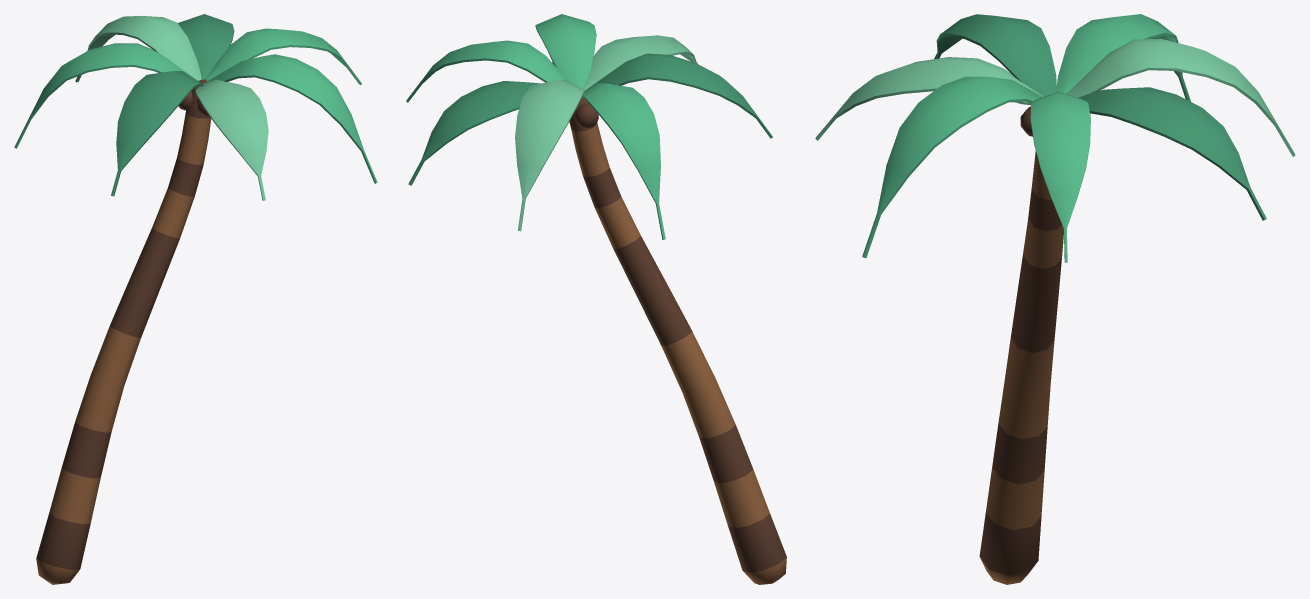
The model's file is W3_Palm_A.fbx.
3 renders of one model, left to right at view 1: azimuth 30°, elevation 25°; view 2: azimuth 150°, elevation 25°; view 3: azimuth 270°, elevation 25°, orthographic. The views are drawn at different scales.
Parts seen in each view (by area): view 1: W3_Palm_A; view 2: W3_Palm_A; view 3: W3_Palm_A.
Boxes of the visible parts, left/top/right/bottom form: W3_Palm_A: left=14, top=14, right=377, bottom=584; W3_Palm_A: left=406, top=14, right=786, bottom=584; W3_Palm_A: left=815, top=14, right=1295, bottom=584.
Size of the model in its own units: 5.49 by 7.45 by 5.12.
